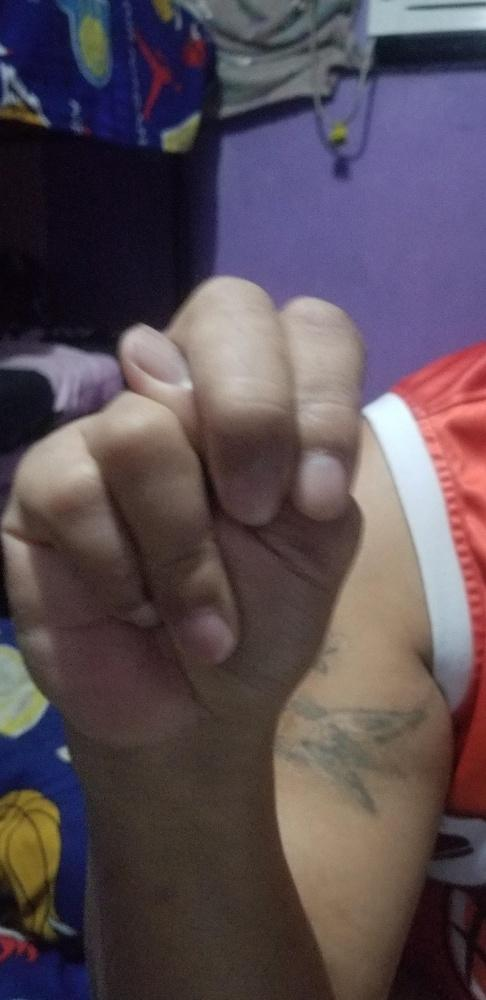n: (0, 273, 366, 746)
